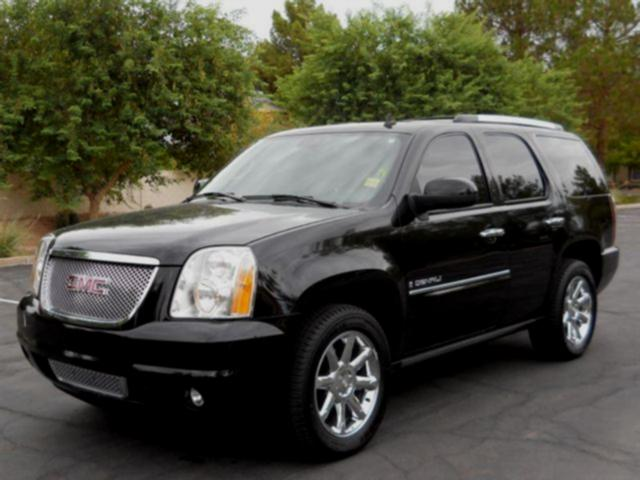GMC: (62, 270, 123, 303)
